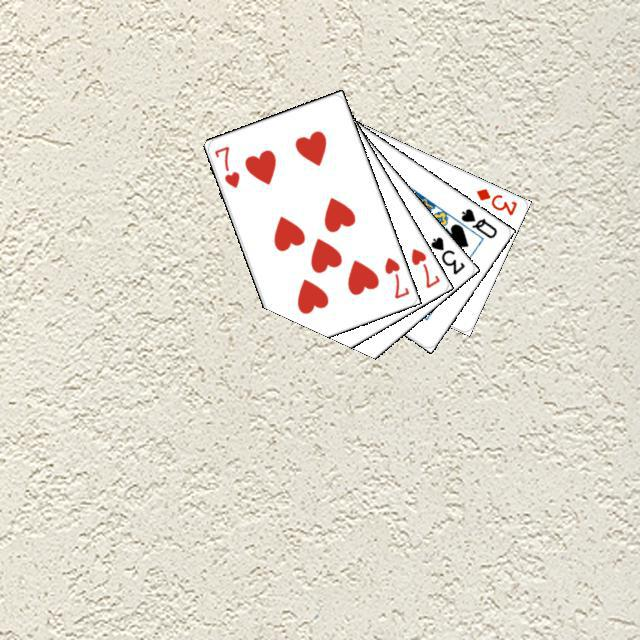3d: (471, 183, 519, 217)
3s: (425, 231, 467, 276)
7h: (406, 243, 442, 290), (209, 141, 241, 190), (379, 252, 411, 300)
Qs: (456, 203, 499, 240)
